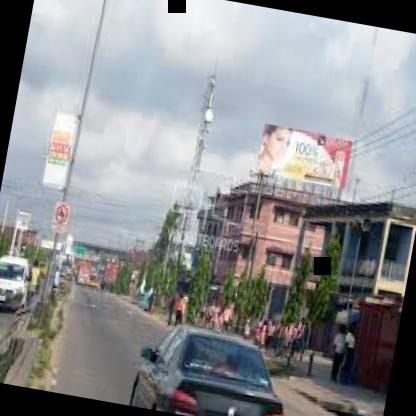car: (109, 304, 294, 416), (0, 242, 39, 318)
